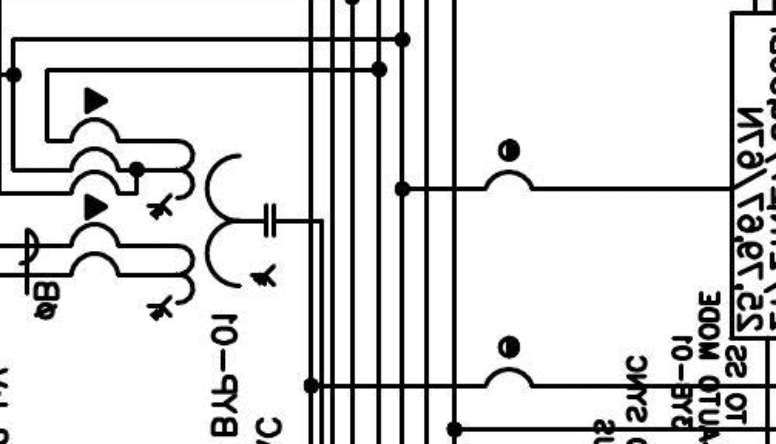115_cvt_3p: (145, 138, 277, 323)
